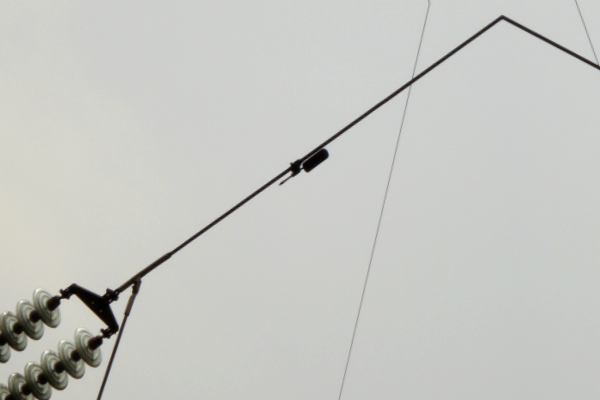damper_defect: (273, 146, 331, 187)
